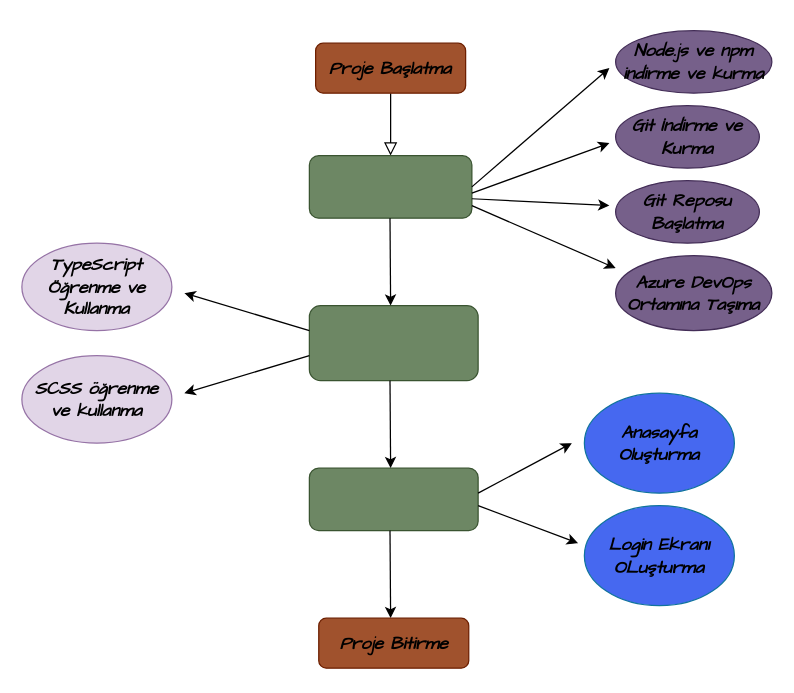
Some shapes in this 794 by 693 pixel diagram are drawn without their labels. The centre of each missing label's shape, as x and y in pixels:
"Geliştirme Ortamını Hazırlama" belongs at (393,342).
"React Projesi Oluşturma" belongs at (390,186).
"Uygulama Geliştirme" belongs at (393,499).
